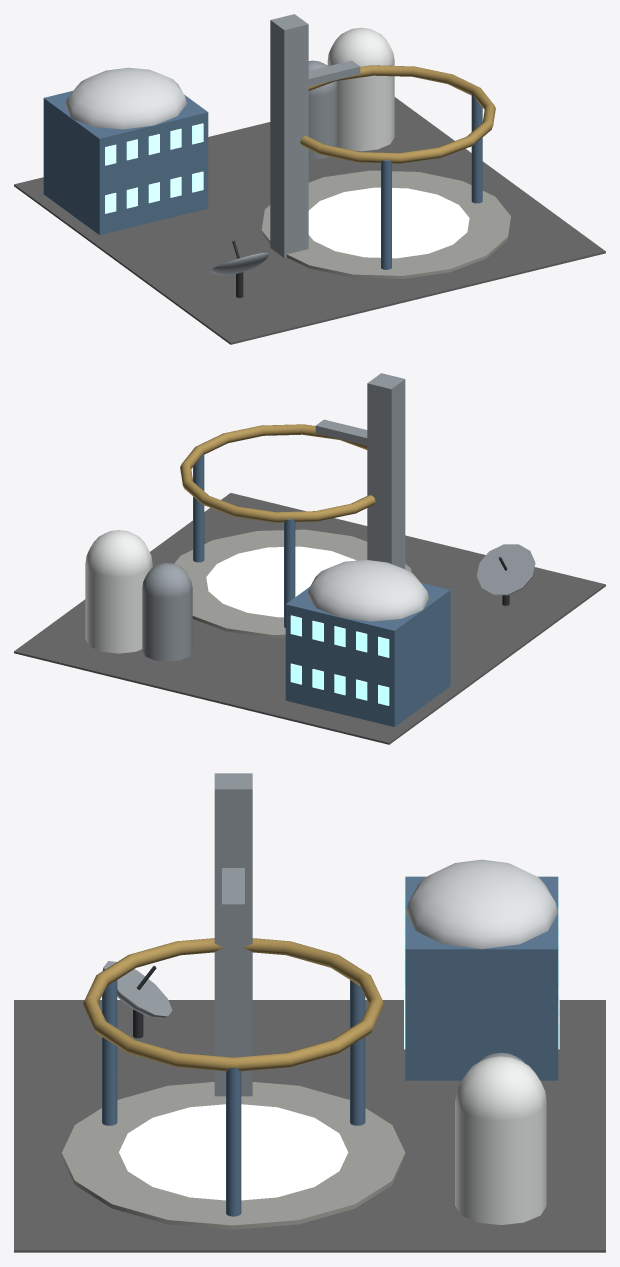
File: bld_special_spaceport_a10.glb
3 renders of one model, top to bottom at view 1: azimuth 30°, elevation 25°; view 2: azimuth 150°, elevation 25°; view 3: azimuth 270°, elevation 25°, orthographic. The views are drawn at different scales.
Parts seen in each view (by area): view 1: body, gantry, antenna; view 2: body, gantry, antenna; view 3: body, gantry, antenna.
Boxes of the visible parts, bbox=[...] form: body: bbox=[14, 27, 605, 344]; gantry: bbox=[270, 14, 360, 258]; antenna: bbox=[210, 240, 268, 297]; body: bbox=[14, 424, 605, 744]; gantry: bbox=[315, 373, 405, 569]; antenna: bbox=[476, 544, 535, 605]; body: bbox=[14, 859, 605, 1252]; gantry: bbox=[214, 773, 252, 1096]; antenna: bbox=[102, 961, 172, 1038].
Size of what is drawn, in the model's own units: 31 by 18.15 by 31.
